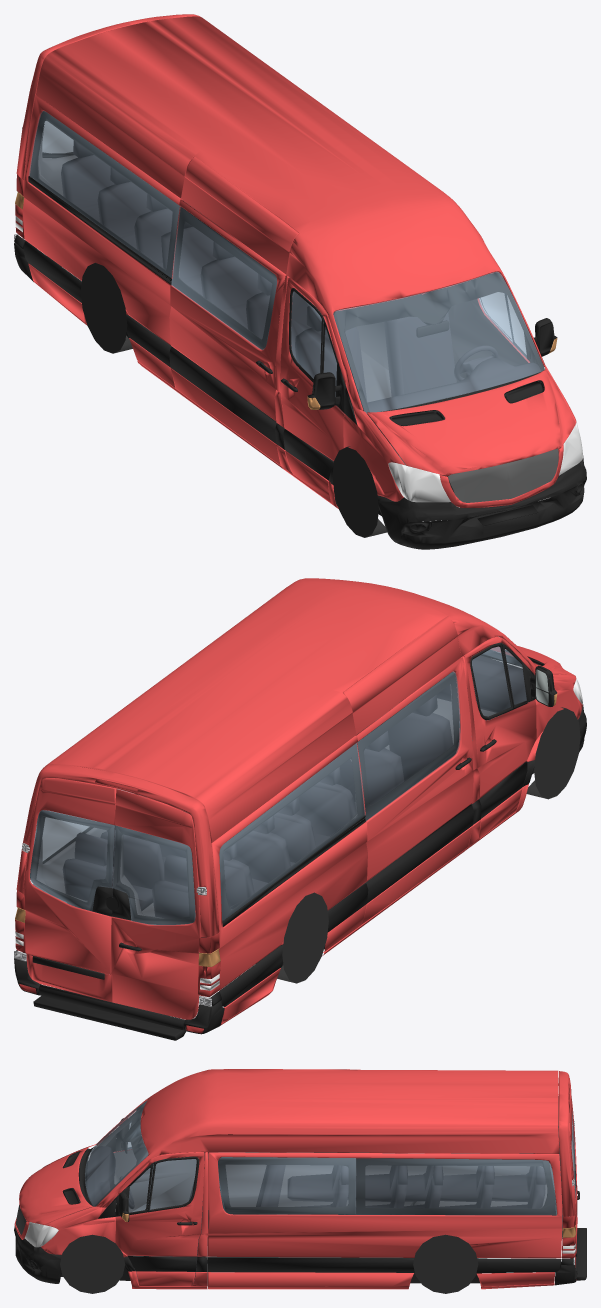
Rendered from courier-van.glb.
3 views of the same model, one above another, from view 1: azimuth 30°, elevation 25°; view 2: azimuth 150°, elevation 25°; view 3: azimuth 270°, elevation 25° (orthographic). The views are drawn at different scales.
Visible parts, largest first — view 1: object 1, object 3, object 2, object 11, object 10, object 6, wheel_fr, wheel_rr, object 7; view 2: object 1, object 3, object 2, object 11, wheel_fr, wheel_rr, object 10, object 9; view 3: object 1, object 3, object 2, object 11, object 10, wheel_rl, wheel_fl, object 7, object 9.
Part boxes in pixels (bbox=[...]): object 1: bbox=[16, 14, 576, 508]; object 3: bbox=[29, 111, 544, 413]; object 2: bbox=[14, 111, 586, 549]; object 11: bbox=[61, 140, 541, 461]; object 10: bbox=[38, 124, 544, 465]; object 6: bbox=[448, 448, 558, 502]; wheel_fr: bbox=[332, 446, 386, 537]; wheel_rr: bbox=[80, 262, 132, 353]; object 7: bbox=[15, 216, 582, 502]; object 1: bbox=[16, 578, 582, 1025]; object 3: bbox=[30, 646, 526, 925]; object 2: bbox=[14, 642, 586, 1040]; object 11: bbox=[62, 656, 533, 937]; wheel_fr: bbox=[526, 707, 580, 799]; wheel_rr: bbox=[277, 892, 328, 983]; object 10: bbox=[33, 655, 522, 924]; object 9: bbox=[15, 779, 220, 1033]; object 1: bbox=[14, 1069, 577, 1289]; object 3: bbox=[85, 1100, 576, 1215]; object 2: bbox=[14, 1101, 586, 1285]; object 11: bbox=[86, 1146, 546, 1279]; object 10: bbox=[89, 1096, 574, 1285]; wheel_rl: bbox=[413, 1234, 478, 1293]; wheel_fl: bbox=[60, 1234, 125, 1293]; object 7: bbox=[24, 1181, 575, 1253]; object 9: bbox=[561, 1087, 576, 1279].
Bounding box in the file's own units: 2.47 × 2.29 × 7.02.
